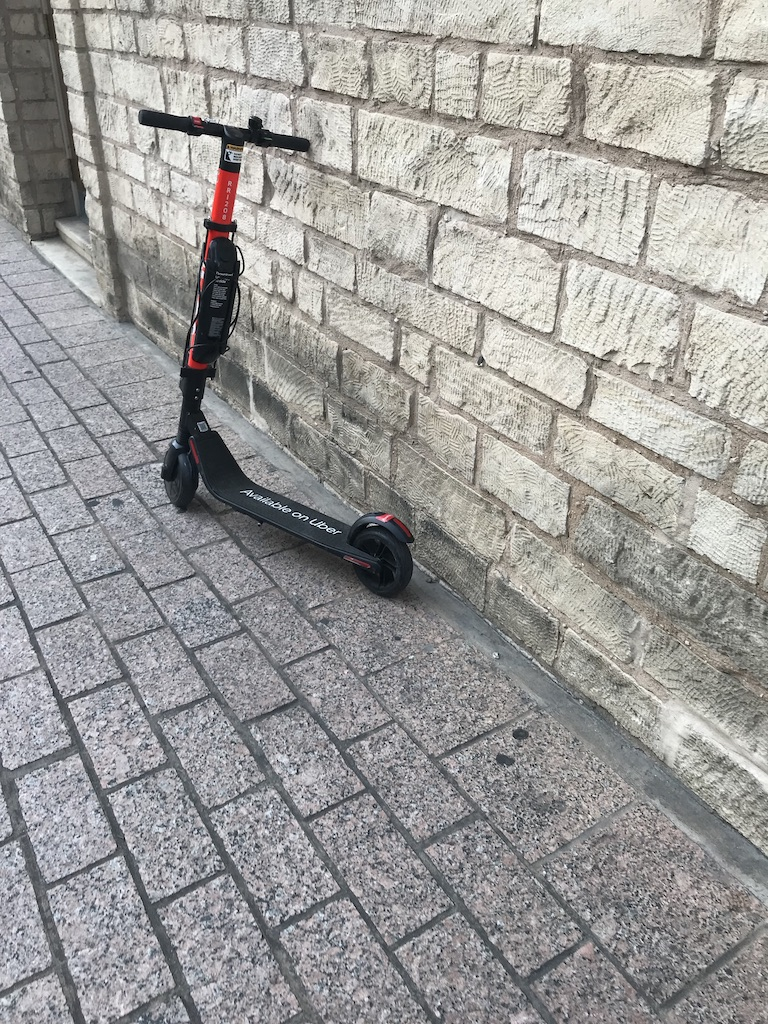scooter: (137, 108, 416, 598)
